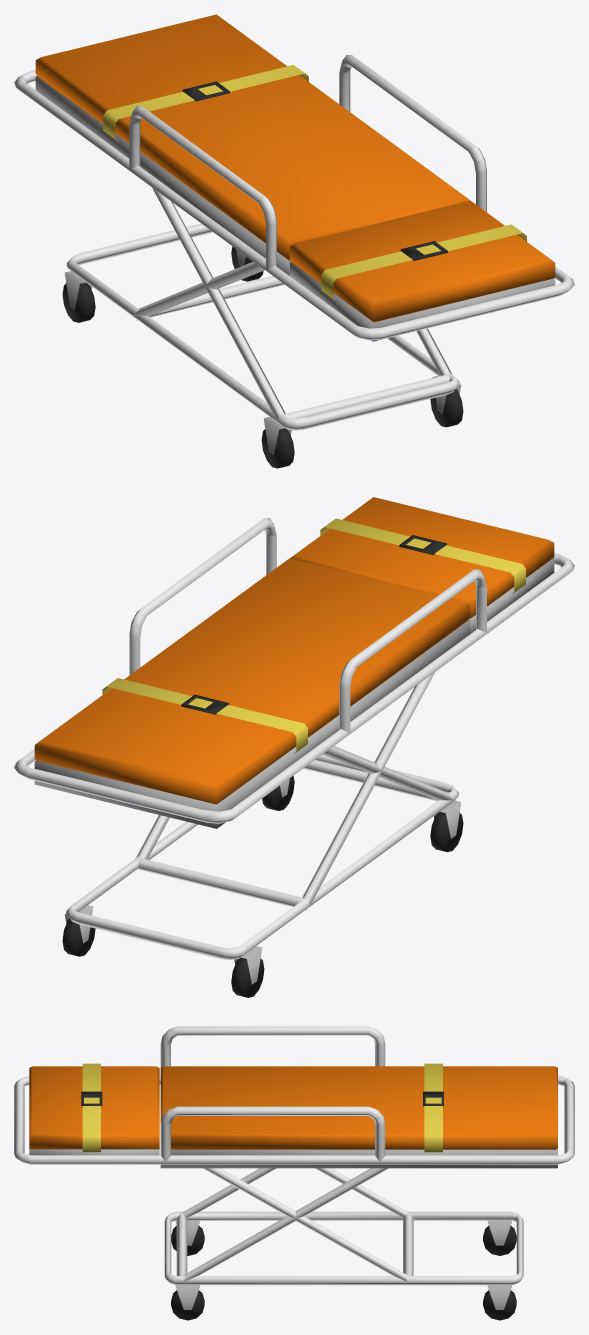
The model's file is hospital_bed_transport.dae.
The picture shows the model from 3 angles, top to bottom: view 1: azimuth 30°, elevation 25°; view 2: azimuth 150°, elevation 25°; view 3: azimuth 270°, elevation 25°; orthographic projection. The views are drawn at different scales.
Parts seen in each view (by area): view 1: bed, frame.003, frame.002, frame.001, Cylinder, frame.004, frame.007, frame.005; view 2: bed, frame.003, frame.002, frame.001, Cylinder, frame.007, frame.004; view 3: bed, frame.003, frame.002, frame.001, Cylinder, frame.006, frame.005, frame.004, frame.007.
Boxes of the visible parts, x1,y1,x2,y2 form: bed: [35, 14, 555, 341]; frame.003: [66, 223, 459, 430]; frame.002: [14, 69, 574, 340]; frame.001: [129, 54, 486, 269]; Cylinder: [62, 246, 463, 468]; frame.004: [152, 188, 285, 422]; frame.007: [133, 261, 264, 317]; frame.005: [416, 328, 451, 375]; bed: [34, 497, 554, 828]; frame.003: [66, 754, 459, 959]; frame.002: [14, 553, 574, 823]; frame.001: [129, 518, 486, 732]; Cylinder: [62, 776, 463, 997]; frame.007: [302, 672, 434, 907]; frame.004: [322, 746, 454, 801]; bed: [29, 1063, 557, 1168]; frame.003: [164, 1211, 523, 1285]; frame.002: [14, 1075, 574, 1164]; frame.001: [160, 1026, 385, 1161]; Cylinder: [171, 1220, 516, 1320]; frame.006: [203, 1168, 408, 1281]; frame.005: [183, 1168, 388, 1281]; frame.004: [182, 1168, 276, 1217]; frame.007: [315, 1168, 408, 1217].
Size of the model in its own units: 0.76 by 2.13 by 0.9202.
